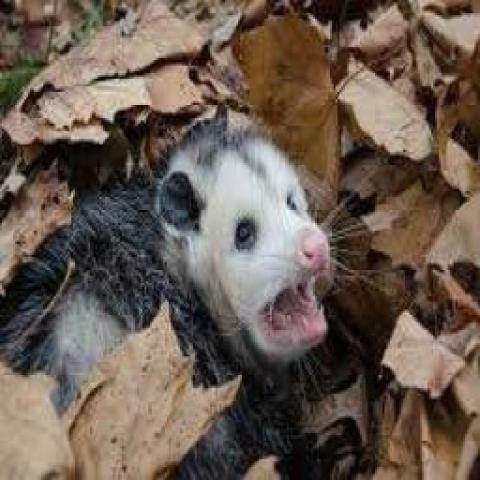small_animal: (0, 106, 337, 480)
